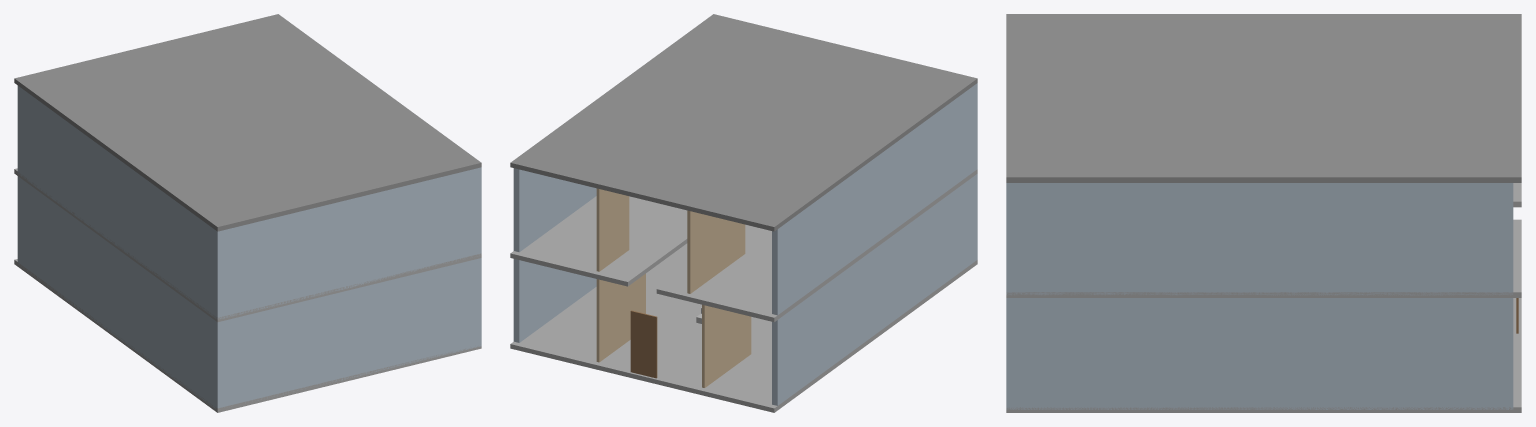
The model's file is house_interior.glb.
The picture shows the model from 3 angles, left to right: view 1: azimuth 30°, elevation 25°; view 2: azimuth 150°, elevation 25°; view 3: azimuth 270°, elevation 25°; orthographic projection. The views are drawn at different scales.
Parts seen in each view (by area): view 1: roof_16, external_wall_7, external_wall_4, external_wall_8, external_wall_5, floor_slab_0, floor_slab_1, floor_slab_2; view 2: roof_16, external_wall_8, external_wall_5, floor_slab_0, floor_slab_2, floor_slab_1, external_wall_6, external_wall_9, internal_wall_12, internal_wall_10, internal_wall_11, internal_wall_14 (+1 smaller); view 3: roof_16, external_wall_9, external_wall_6, floor_slab_2, floor_slab_0, external_wall_7, external_wall_4.
Part boxes in pixels (x1=…): roof_16: x1=14, y1=14, x2=481, y2=231; external_wall_7: x1=214, y1=167, x2=481, y2=319; external_wall_4: x1=214, y1=258, x2=481, y2=408; external_wall_8: x1=17, y1=85, x2=214, y2=316; external_wall_5: x1=17, y1=176, x2=214, y2=407; floor_slab_0: x1=14, y1=259, x2=481, y2=412; floor_slab_1: x1=14, y1=168, x2=335, y2=322; floor_slab_2: x1=364, y1=253, x2=481, y2=286; roof_16: x1=510, y1=14, x2=977, y2=231; external_wall_8: x1=772, y1=85, x2=974, y2=315; external_wall_5: x1=772, y1=176, x2=974, y2=405; floor_slab_0: x1=510, y1=243, x2=977, y2=412; floor_slab_2: x1=510, y1=196, x2=687, y2=286; floor_slab_1: x1=656, y1=169, x2=977, y2=322; external_wall_6: x1=513, y1=259, x2=596, y2=342; external_wall_9: x1=513, y1=168, x2=596, y2=252; internal_wall_12: x1=687, y1=210, x2=745, y2=293; internal_wall_10: x1=702, y1=304, x2=751, y2=387; internal_wall_11: x1=596, y1=273, x2=645, y2=362; internal_wall_14: x1=596, y1=188, x2=629, y2=271; roof_16: x1=1006, y1=14, x2=1521, y2=182; external_wall_9: x1=1014, y1=183, x2=1513, y2=295; external_wall_6: x1=1014, y1=298, x2=1513, y2=409; floor_slab_2: x1=1006, y1=219, x2=1521, y2=297; floor_slab_0: x1=1006, y1=298, x2=1521, y2=412; external_wall_7: x1=1006, y1=183, x2=1014, y2=295; external_wall_4: x1=1006, y1=298, x2=1014, y2=409.
Size of the model in its own units: 9.14 by 6.15 by 12.19.
